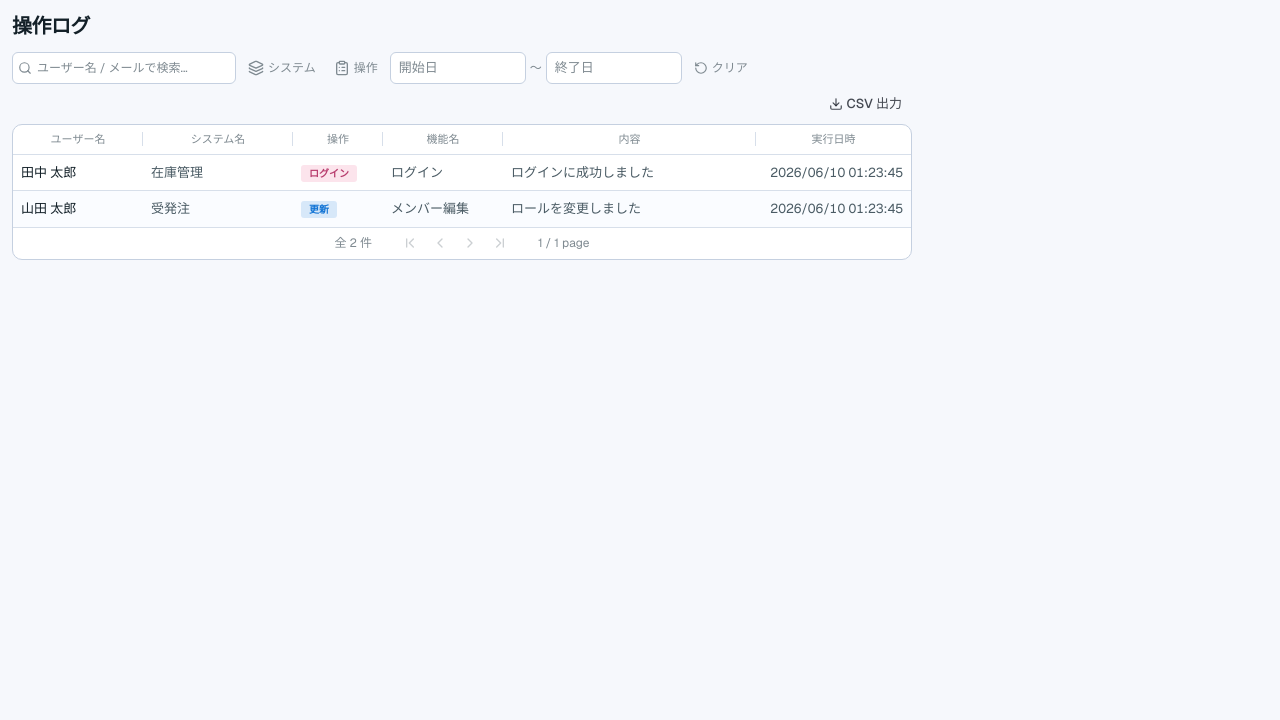
Test: AuditLogScreen › CSV 期間が92日超過だと出力日数表示とダウンロード非活性（set-0092）
Click the button "CSV 出力" at {"x": 865, "y": 104}, box [819,88,912,120]
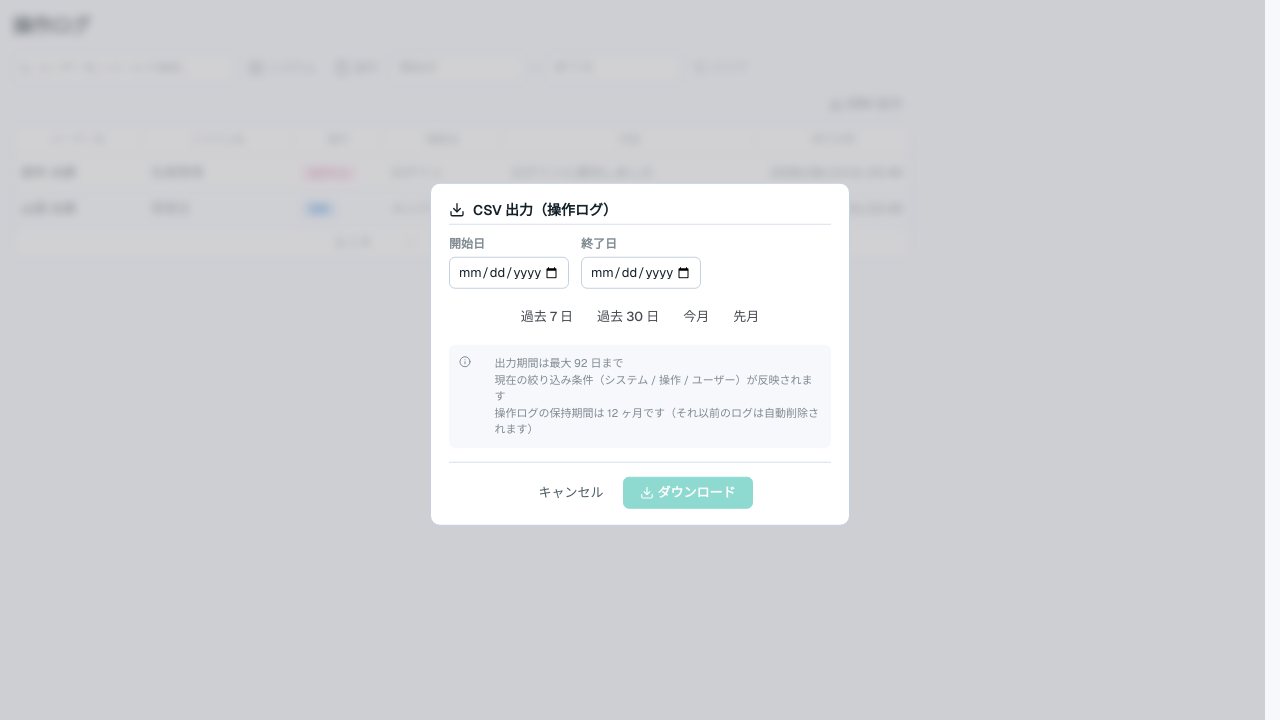
Type "2026-01-01" into the date field named "出力開始日" at {"x": 509, "y": 273}, box [449,257,569,289]
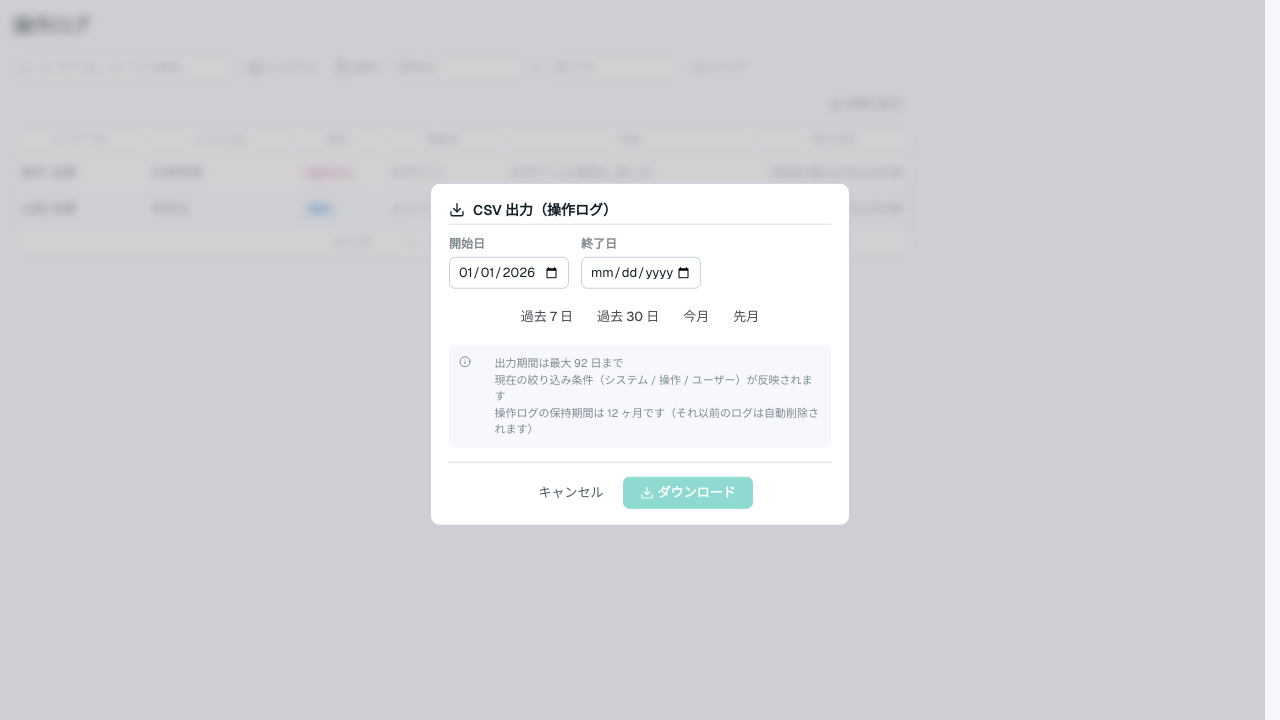
Type "2026-06-10" into the date field named "出力終了日" at {"x": 641, "y": 273}, box [581,257,701,289]
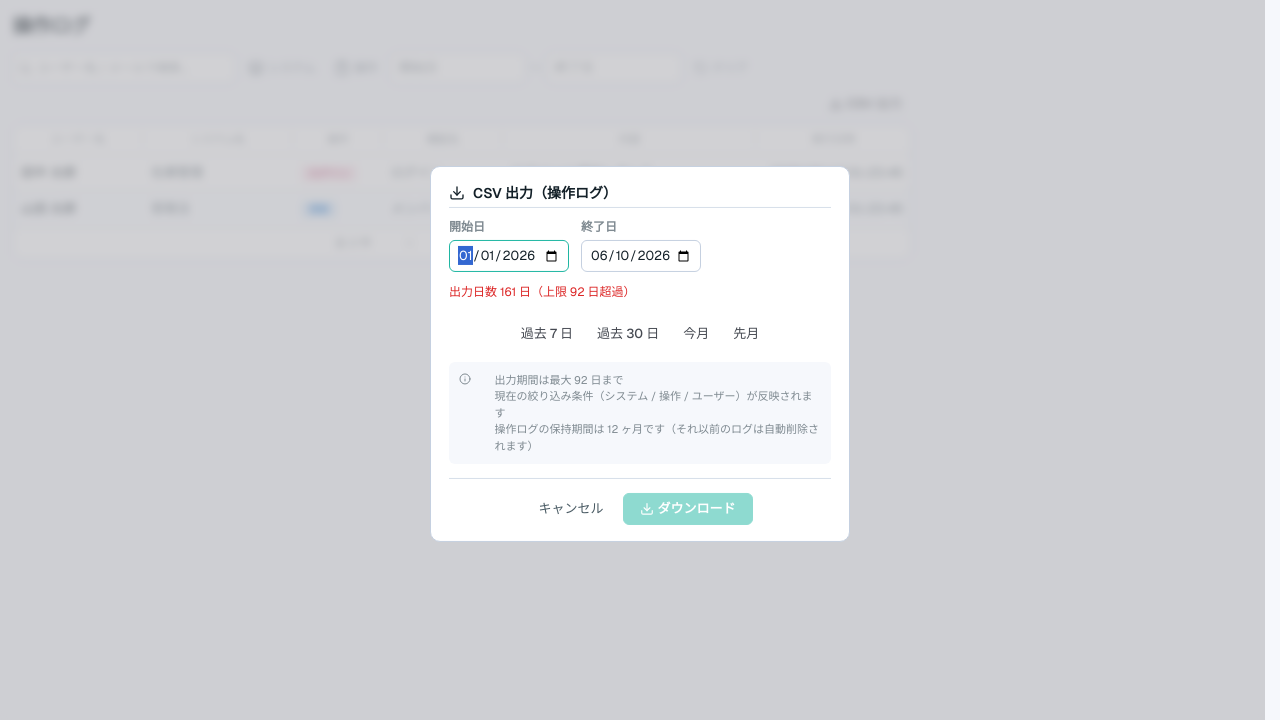
Result: the button "ダウンロード" is disabled at [622,493,752,525]
Result: the text "出力日数 161 日（上限 92 日超過）" is shown at [449,284,636,306]
